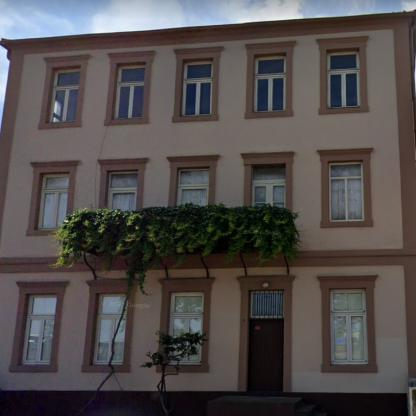door: (250, 321, 282, 389)
window: (331, 292, 367, 363), (93, 296, 128, 364), (23, 296, 57, 362), (330, 162, 364, 220), (38, 176, 70, 229), (328, 51, 358, 107), (50, 70, 80, 123), (256, 58, 285, 112), (183, 64, 212, 115), (116, 67, 144, 118), (170, 294, 202, 336), (252, 166, 284, 206), (176, 170, 209, 206), (110, 172, 137, 210), (252, 292, 281, 317)
